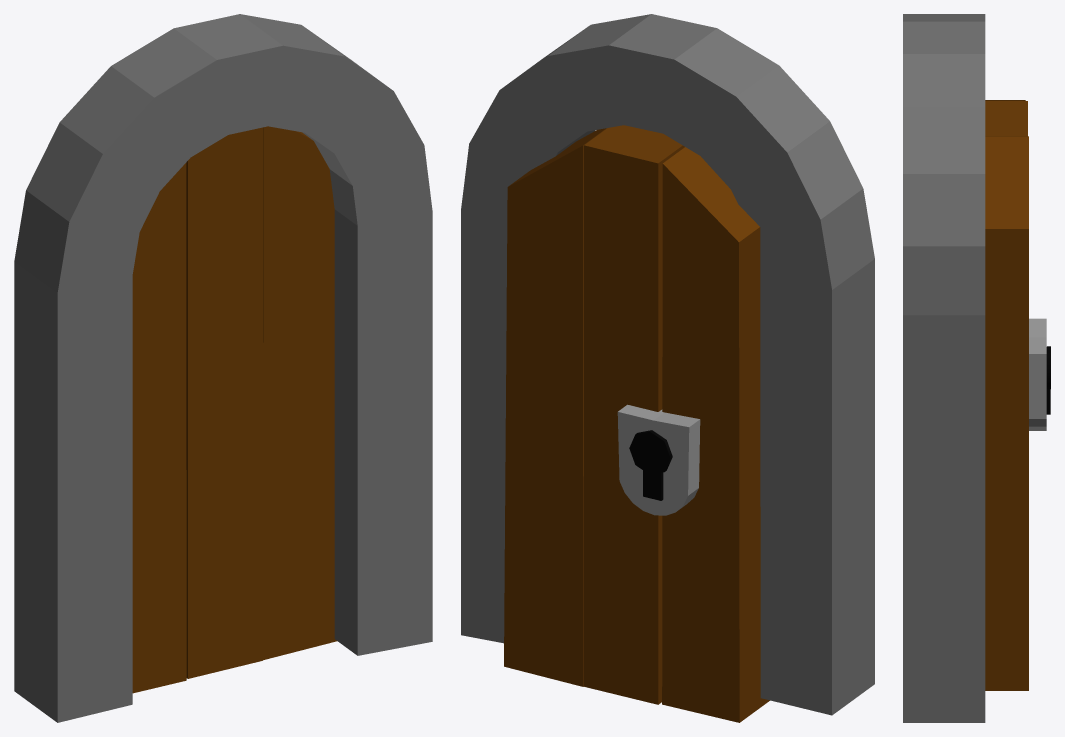
The model's file is LockedDoor.fbx.
3 renders of one model, left to right at view 1: azimuth 30°, elevation 25°; view 2: azimuth 150°, elevation 25°; view 3: azimuth 270°, elevation 25°, orthographic. The views are drawn at different scales.
Visible parts, largest first — view 1: SmallDoorArch, Cube__6_, Cube__8_, Cube__7_; view 2: SmallDoorArch, Cube__7_, Cube__6_, Cube__8_, Lock__1_, Cylinder; view 3: SmallDoorArch, Cube__8_, Lock__1_, Cube__6_.
Boxes of the visible parts, bbox=[...] form: SmallDoorArch: bbox=[14, 14, 432, 722]; Cube__6_: bbox=[186, 127, 262, 678]; Cube__8_: bbox=[263, 126, 337, 660]; Cube__7_: bbox=[132, 163, 186, 693]; SmallDoorArch: bbox=[461, 14, 874, 715]; Cube__7_: bbox=[662, 147, 769, 722]; Cube__6_: bbox=[584, 125, 684, 704]; Cube__8_: bbox=[504, 128, 606, 686]; Lock__1_: bbox=[617, 404, 700, 515]; Cylinder: bbox=[629, 430, 672, 474]; SmallDoorArch: bbox=[903, 14, 985, 722]; Cube__8_: bbox=[985, 136, 1028, 690]; Lock__1_: bbox=[1029, 318, 1046, 430]; Cube__6_: bbox=[985, 101, 1027, 136].
Size of the model in its own units: 500 by 808 by 180.
